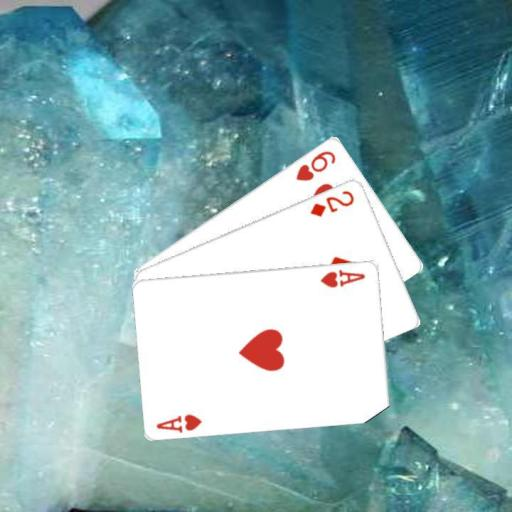2D: (307, 187, 356, 219)
6H: (292, 147, 338, 182)
AH: (154, 410, 204, 434), (318, 266, 367, 289)
